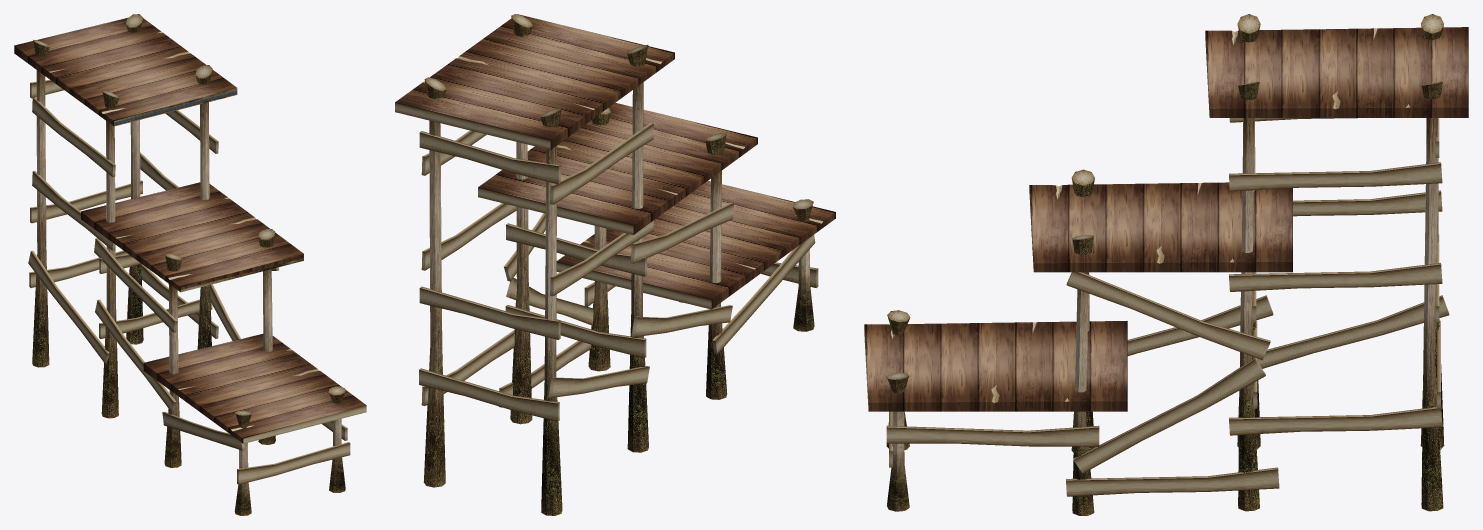
File: p2_platform2_small_step_triple_LOD0.fbx
3 renders of one model, left to right at view 1: azimuth 30°, elevation 25°; view 2: azimuth 150°, elevation 25°; view 3: azimuth 270°, elevation 25°, orthographic. The views are drawn at different scales.
Parts seen in each view (by area): view 1: polymsh; view 2: polymsh; view 3: polymsh.
Boxes of the visible parts, x1,y1,x2,y2 form: polymsh: [14, 14, 366, 515]; polymsh: [395, 14, 835, 515]; polymsh: [864, 14, 1468, 515].
Bounding box in the file's own units: 100 × 251 × 318.
